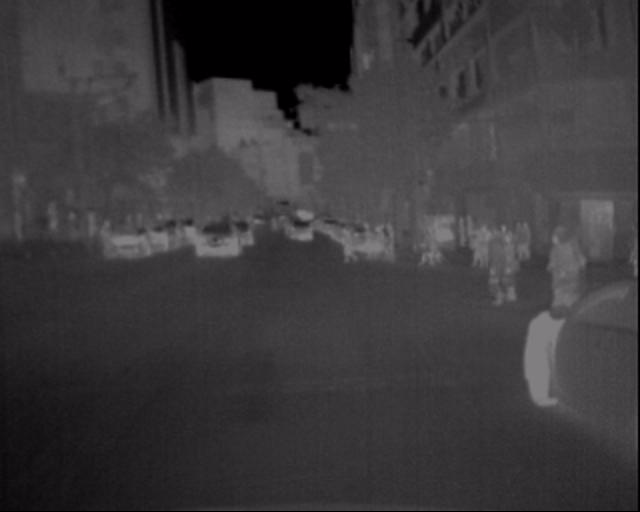person: (411, 215, 537, 276), (323, 207, 401, 273), (542, 215, 579, 318), (474, 224, 508, 304)
